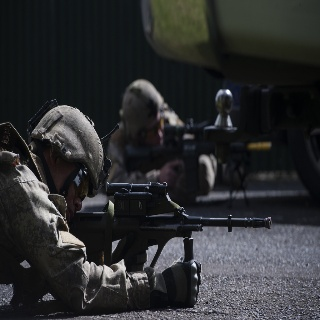rifle: (63, 179, 274, 269), (123, 114, 274, 210)
